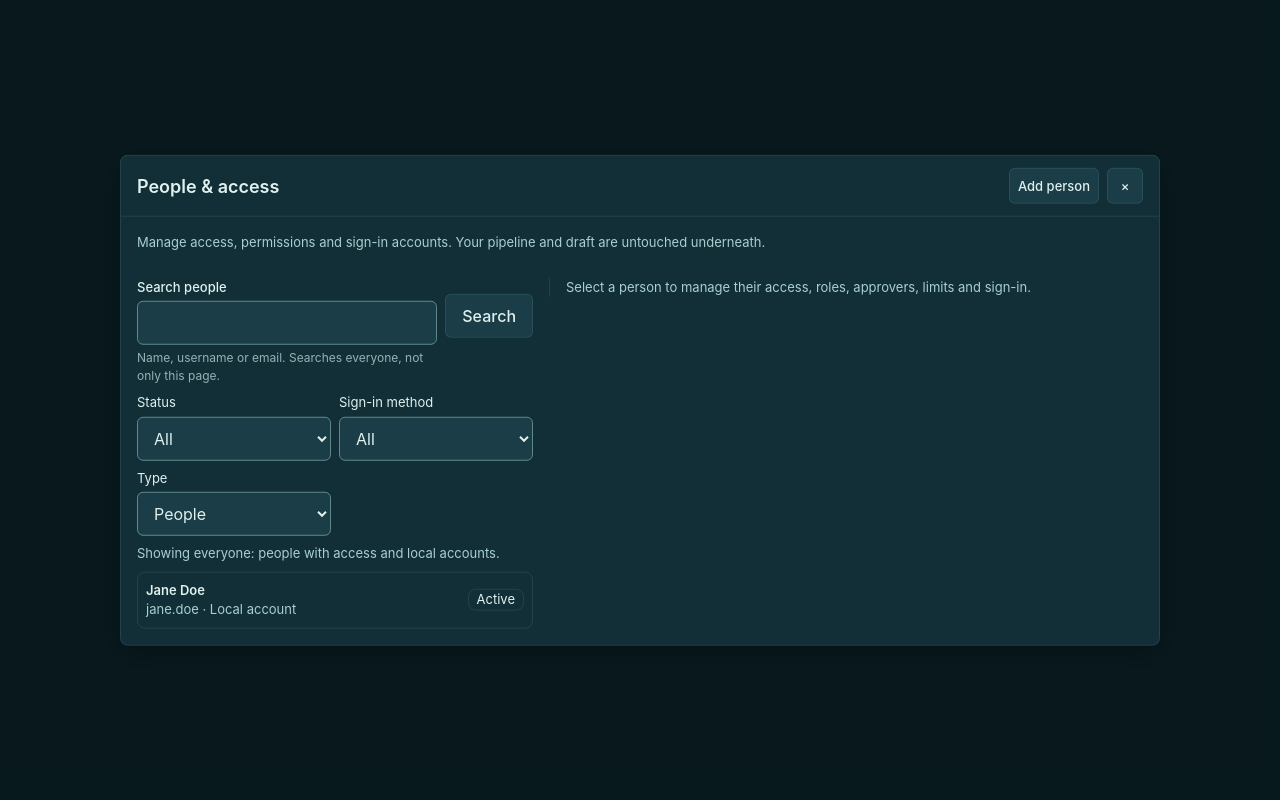
Scenario: PeopleAccessDialog › gives a caller with both capabilities access and credential controls for one person
Click the button "Jane Doe jane.doe · Local account Active". click: [175, 589]
box: [137,571,533,628]
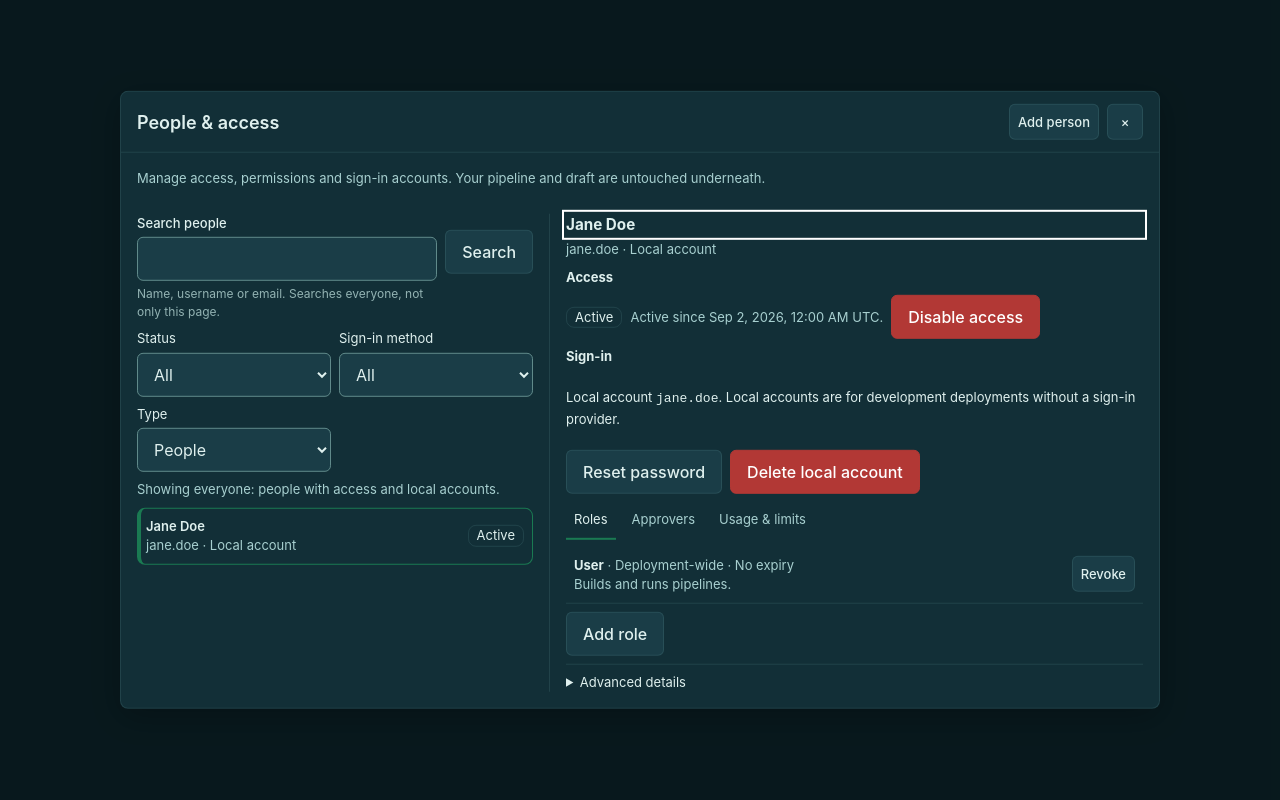
Result: the button "Disable access" is shown at [891,295,1040,339]
Result: the button with aria-label "Reset password for Jane Doe" is shown at [566,450,722,494]
Result: the button with aria-label "Delete local account for Jane Doe" is shown at [730,450,920,494]
